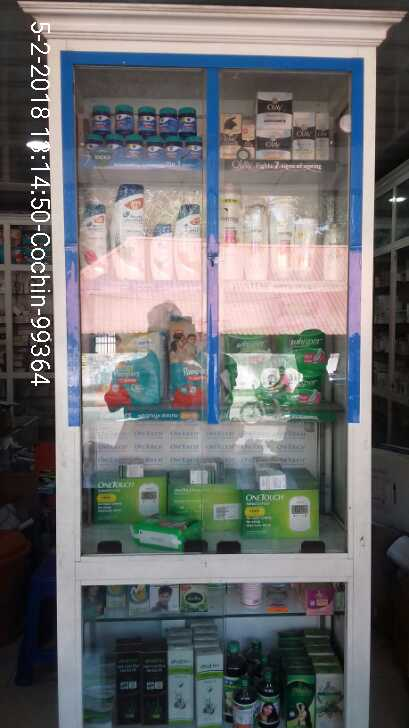vicks: (86, 102, 209, 156)
